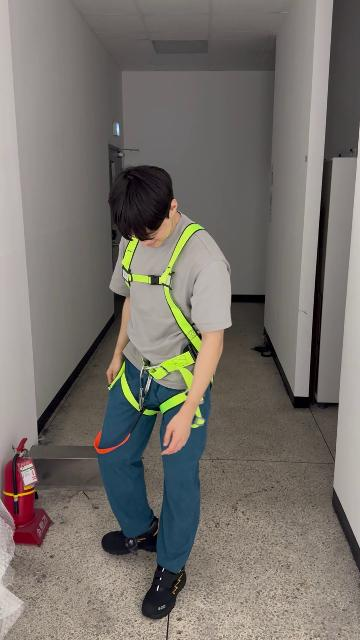helmet_not_worn: (108, 165, 178, 233)
shoe_worn: (141, 563, 186, 618), (101, 516, 159, 556)
vest_worn: (101, 222, 216, 431)
